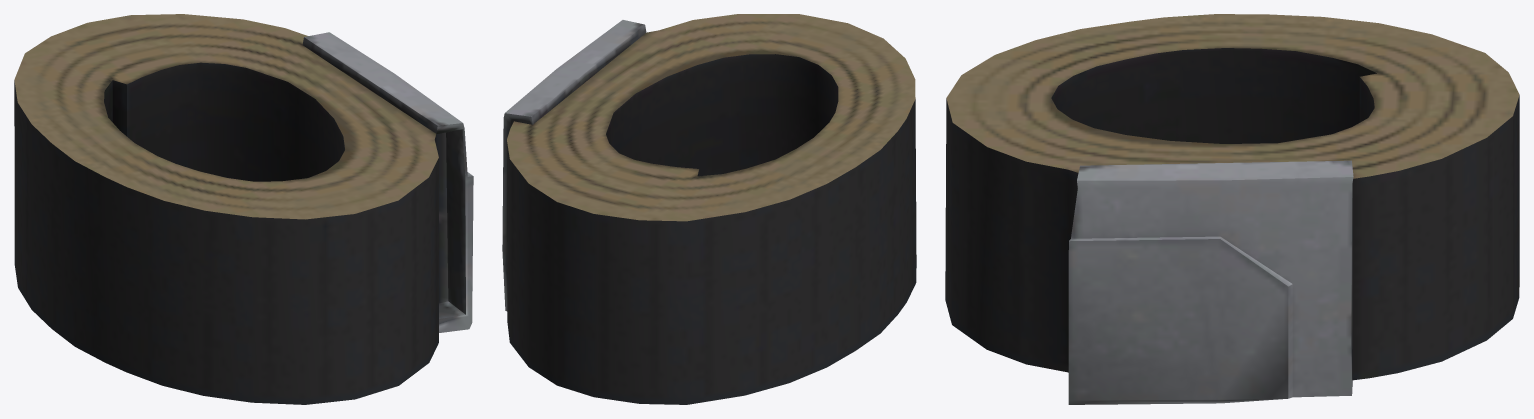
Rendered from belt.dae.
The picture shows the model from 3 angles, left to right: view 1: azimuth 30°, elevation 25°; view 2: azimuth 150°, elevation 25°; view 3: azimuth 270°, elevation 25°; orthographic projection. The views are drawn at different scales.
Visible parts, largest first — view 1: beltLP; view 2: beltLP; view 3: beltLP.
Boxes of the visible parts, x1=… form: beltLP: x1=14, y1=14, x2=473, y2=404; beltLP: x1=502, y1=14, x2=916, y2=404; beltLP: x1=945, y1=14, x2=1519, y2=404.
Size of the model in its own units: 0.0803 by 0.0477 by 0.1103.
